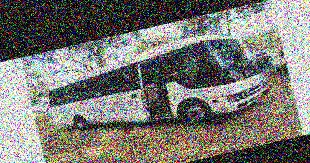bus: (41, 22, 275, 157)
